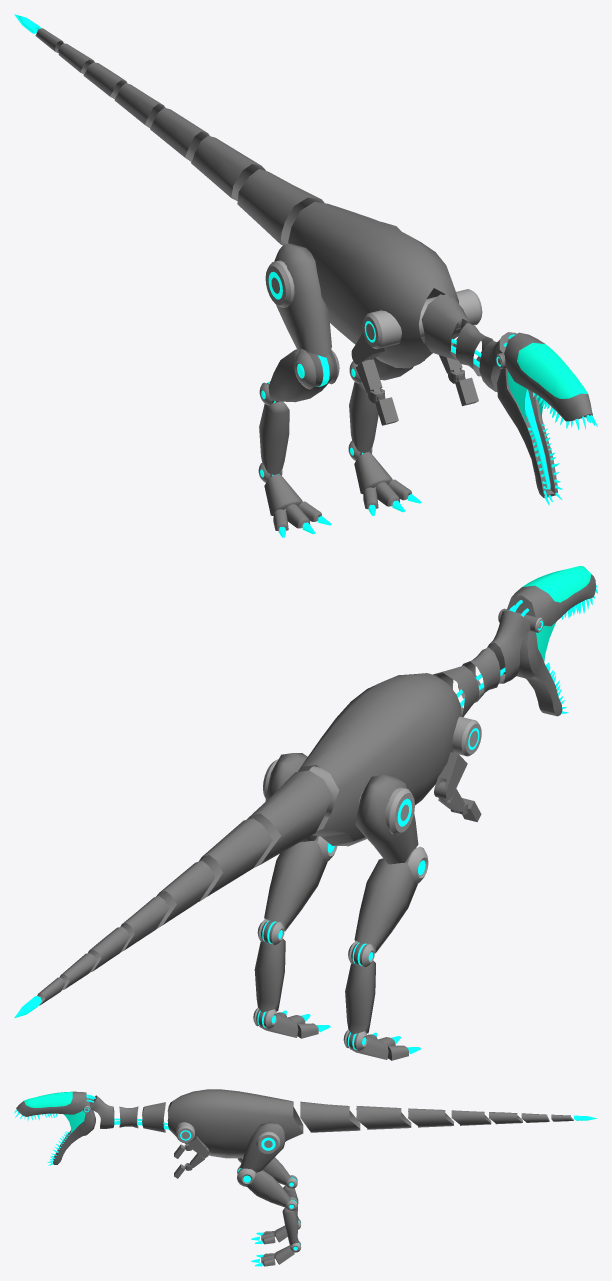
The picture shows the model from 3 angles, top to bottom: view 1: azimuth 30°, elevation 25°; view 2: azimuth 150°, elevation 25°; view 3: azimuth 270°, elevation 25°; orthographic projection. The views are drawn at different scales.
Parts seen in each view (by area): view 1: UpperBody, Upper_Jaw, polySurface68, polySurface24 (×2), Tail, polySurface60, Lower_Jaw, Arms, Neck3, pCube37 (×2), polySurface61, polySurface66 (+6 smaller); view 2: UpperBody, polySurface66 (×2), Tail, polySurface24 (×2), Upper_Jaw, polySurface68, polySurface60, Lower_Jaw, polySurface61, Legs, Neck1, polySurface58 (+7 smaller); view 3: UpperBody, Tail, Upper_Jaw, polySurface66 (×2), polySurface60, polySurface67, polySurface61, Lower_Jaw, Neck3, polySurface58, Neck1, Legs (+7 smaller).
Part boxes in pixels (x1=…): UpperBody: x1=288, y1=202, x2=458, y2=368; Upper_Jaw: x1=504, y1=332, x2=592, y2=421; polySurface68: x1=274, y1=243, x2=331, y2=357; polySurface24 (×2): x1=259, y1=381, x2=378, y2=474; Tail: x1=237, y1=169, x2=324, y2=245; polySurface60: x1=191, y1=135, x2=265, y2=200; Lower_Jaw: x1=496, y1=368, x2=557, y2=497; Arms: x1=362, y1=289, x2=482, y2=349; Neck3: x1=421, y1=294, x2=470, y2=360; pCube37 (×2): x1=264, y1=452, x2=392, y2=515; polySurface61: x1=150, y1=107, x2=209, y2=161; polySurface66: x1=268, y1=348, x2=328, y2=402; UpperBody: x1=298, y1=673, x2=461, y2=846; polySurface66 (×2): x1=264, y1=839, x2=417, y2=953; Tail: x1=246, y1=770, x2=332, y2=867; polySurface24 (×2): x1=254, y1=938, x2=375, y2=1034; Upper_Jaw: x1=506, y1=566, x2=595, y2=626; polySurface68: x1=355, y1=775, x2=418, y2=864; polySurface60: x1=198, y1=818, x2=272, y2=901; Lower_Jaw: x1=516, y1=630, x2=562, y2=716; polySurface61: x1=156, y1=861, x2=214, y2=928; Legs: x1=263, y1=759, x2=414, y2=834; Neck1: x1=487, y1=610, x2=530, y2=683; polySurface58: x1=120, y1=896, x2=168, y2=951; UpperBody: x1=167, y1=1089, x2=303, y2=1158; Tail: x1=300, y1=1101, x2=360, y2=1132; Upper_Jaw: x1=16, y1=1091, x2=86, y2=1116; polySurface66 (×2): x1=246, y1=1157, x2=291, y2=1207; polySurface60: x1=356, y1=1106, x2=411, y2=1129; polySurface67: x1=240, y1=1122, x2=285, y2=1172; polySurface61: x1=408, y1=1108, x2=454, y2=1127; Lower_Jaw: x1=53, y1=1109, x2=95, y2=1164; Neck3: x1=142, y1=1102, x2=165, y2=1132; polySurface58: x1=451, y1=1110, x2=491, y2=1125; Neck1: x1=89, y1=1095, x2=114, y2=1128; Legs: x1=256, y1=1131, x2=280, y2=1154.
Size of the model in its own units: 6.48 by 14.06 by 46.93.
